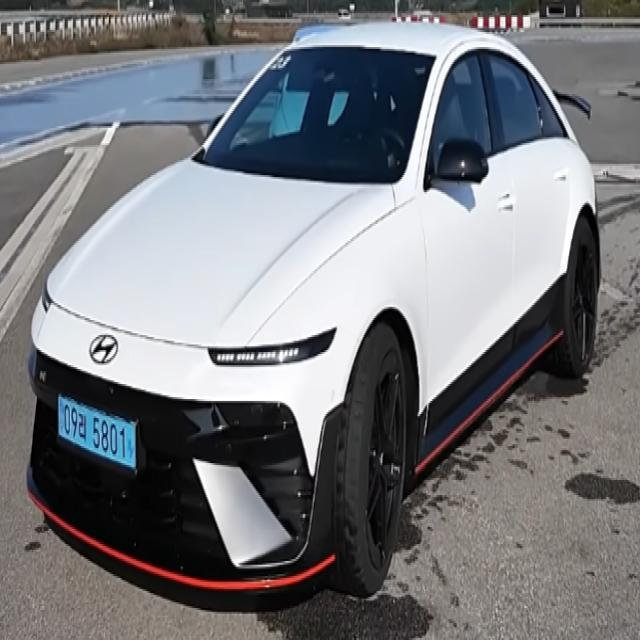car: (46, 390, 151, 491)
carev: (125, 416, 138, 474), (53, 390, 65, 442)
